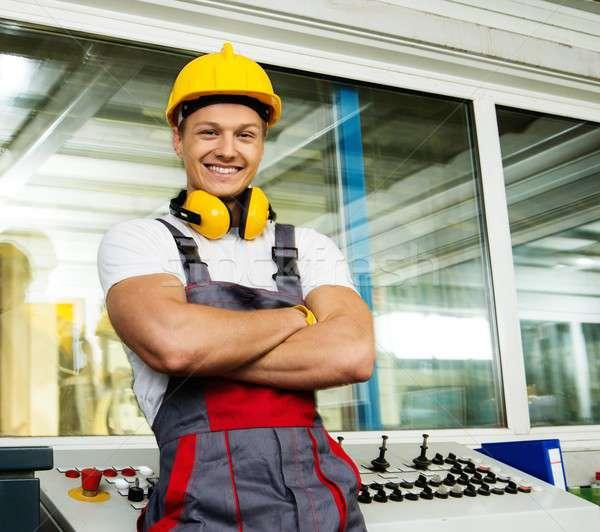helmet: (168, 46, 286, 127)
